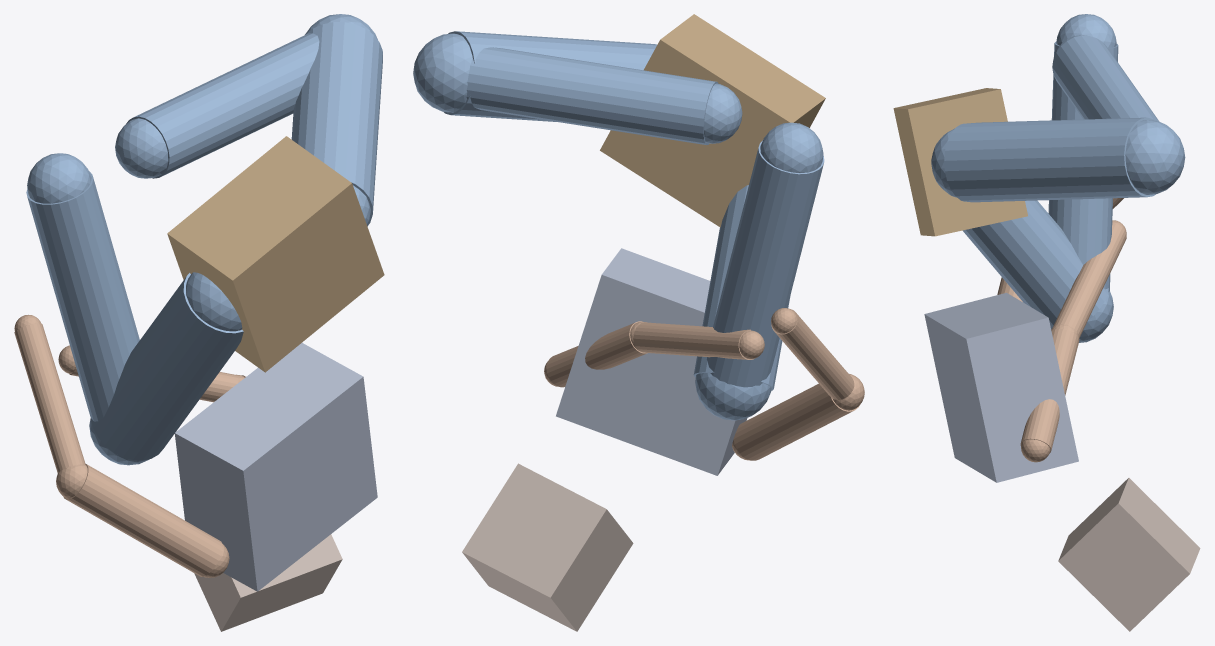
File: maquette_original.glb
The picture shows the model from 3 angles, left to right: view 1: azimuth 30°, elevation 25°; view 2: azimuth 150°, elevation 25°; view 3: azimuth 270°, elevation 25°; orthographic projection. The views are drawn at different scales.
Parts seen in each view (by area): view 1: world; view 2: world; view 3: world.
Boxes of the visible parts, x1,y1,x2,y2 form: world: [14, 14, 384, 631]; world: [413, 14, 864, 631]; world: [893, 14, 1200, 631].
Bounding box in the file's own units: 0.6497 × 0.9367 × 0.4835.
